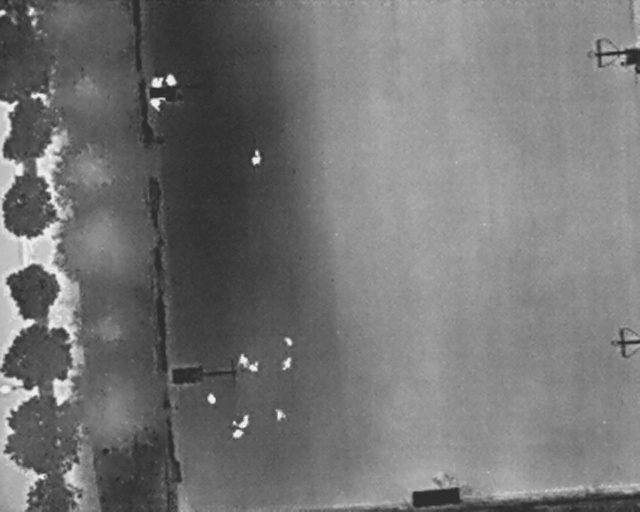Person: (231, 409, 253, 431), (277, 354, 295, 374), (148, 97, 166, 113), (251, 148, 262, 167), (165, 73, 178, 89), (237, 353, 250, 368), (149, 77, 163, 90), (274, 408, 286, 422), (230, 429, 244, 440), (248, 360, 259, 373), (206, 393, 218, 404), (283, 334, 293, 347)
